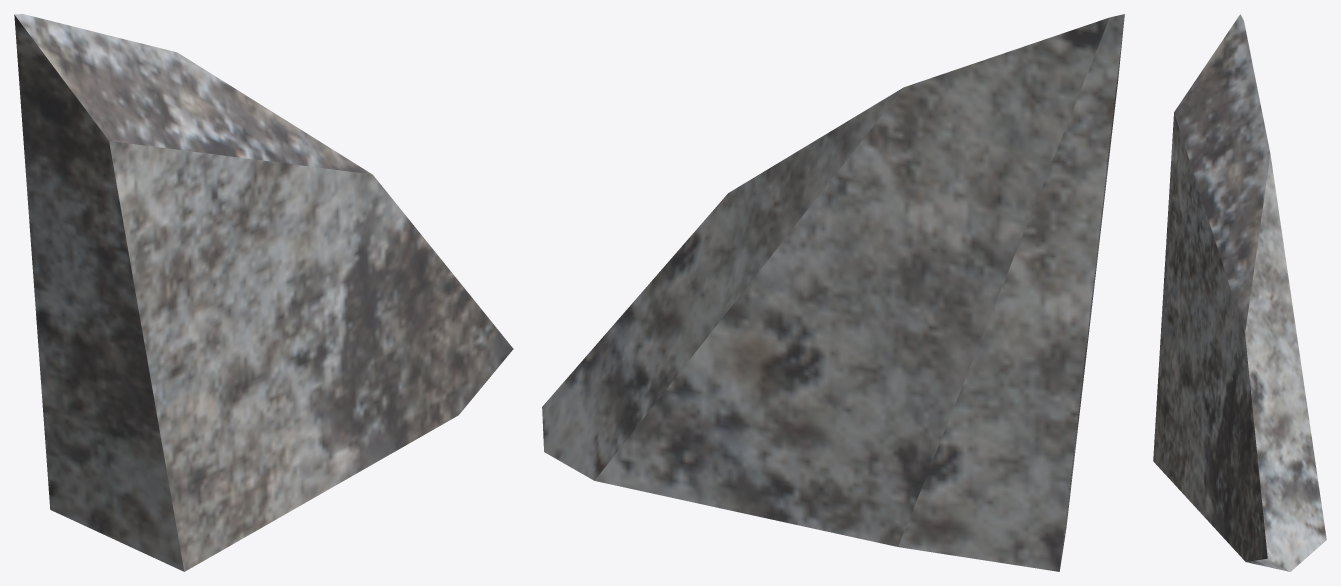
Rendered from Asteroid_Medium_001_02_002_03_012.fbx.
3 views of the same model, side by side, from view 1: azimuth 30°, elevation 25°; view 2: azimuth 150°, elevation 25°; view 3: azimuth 270°, elevation 25° (orthographic). The views are drawn at different scales.
Visible parts, largest first — view 1: Asteroid_Medium_001_02_002_03_012; view 2: Asteroid_Medium_001_02_002_03_012; view 3: Asteroid_Medium_001_02_002_03_012.
Boxes of the visible parts, left/top/right/bottom form: Asteroid_Medium_001_02_002_03_012: left=14, top=14, right=513, bottom=571; Asteroid_Medium_001_02_002_03_012: left=542, top=14, right=1124, bottom=571; Asteroid_Medium_001_02_002_03_012: left=1153, top=14, right=1326, bottom=571.
Size of the model in its own units: 6.09 by 6.1 by 2.36.
